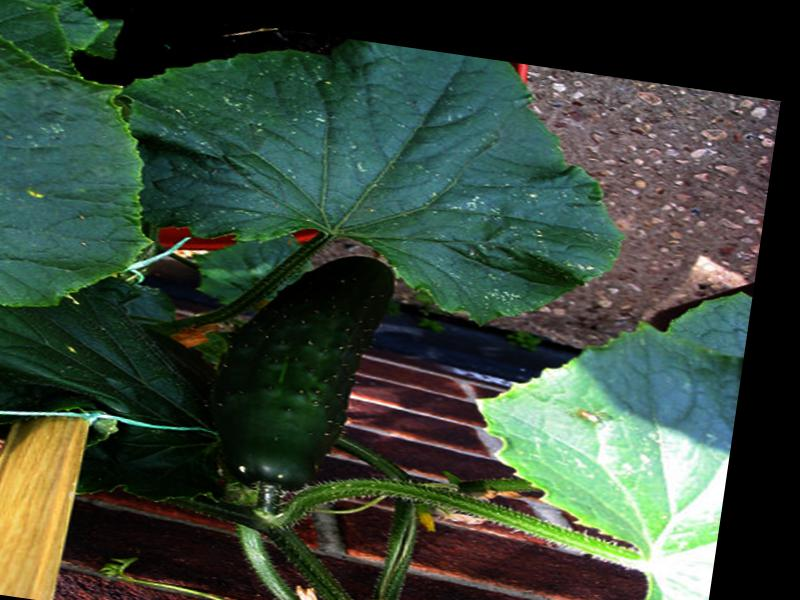Cucumber: (200, 237, 402, 503)
